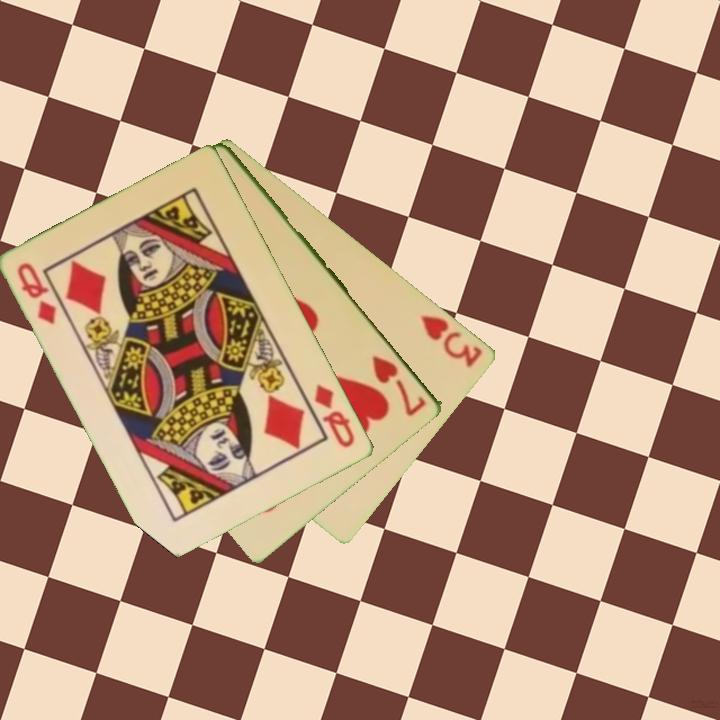3h: (416, 311, 486, 371)
7h: (368, 351, 430, 420)
Qd: (311, 380, 358, 451), (14, 258, 61, 328)
